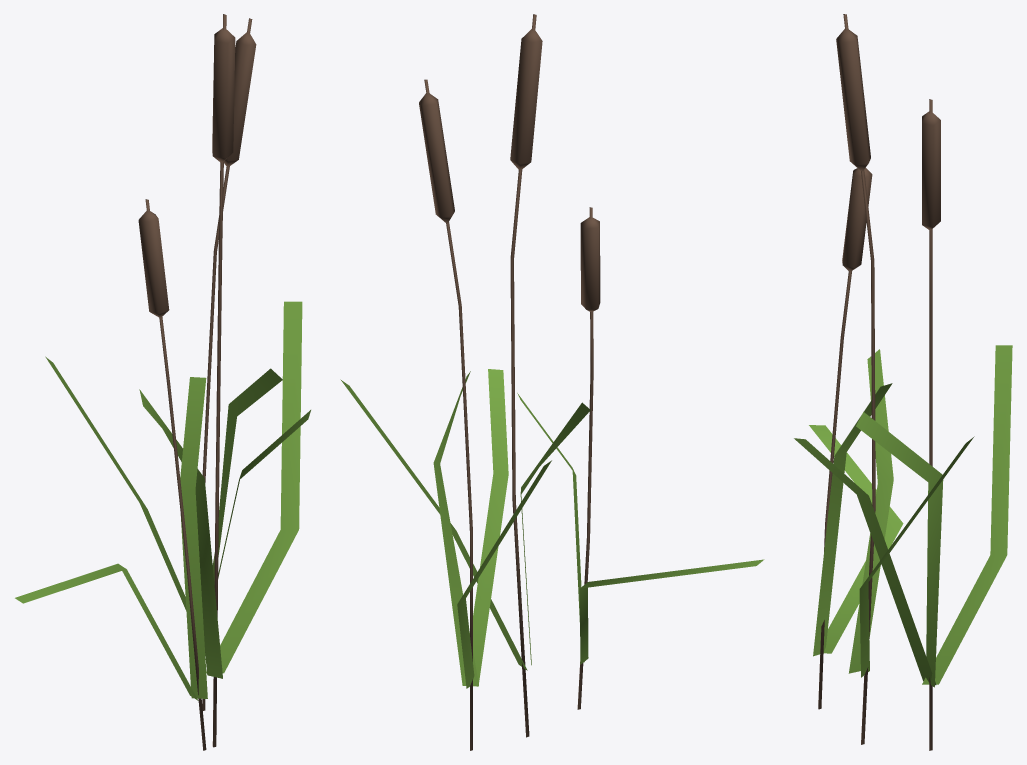
Rendered from Reed_7.fbx.
The picture shows the model from 3 angles, left to right: view 1: azimuth 30°, elevation 25°; view 2: azimuth 150°, elevation 25°; view 3: azimuth 270°, elevation 25°; orthographic projection. The views are drawn at different scales.
Visible parts, largest first — view 1: Reed 7; view 2: Reed 7; view 3: Reed 7.
Part boxes in pixels (x1,y1,x2,y2): Reed 7: [15, 14, 310, 750]; Reed 7: [340, 14, 764, 750]; Reed 7: [794, 14, 1012, 750].
Size of the model in its own units: 153 by 301 by 81.83.
